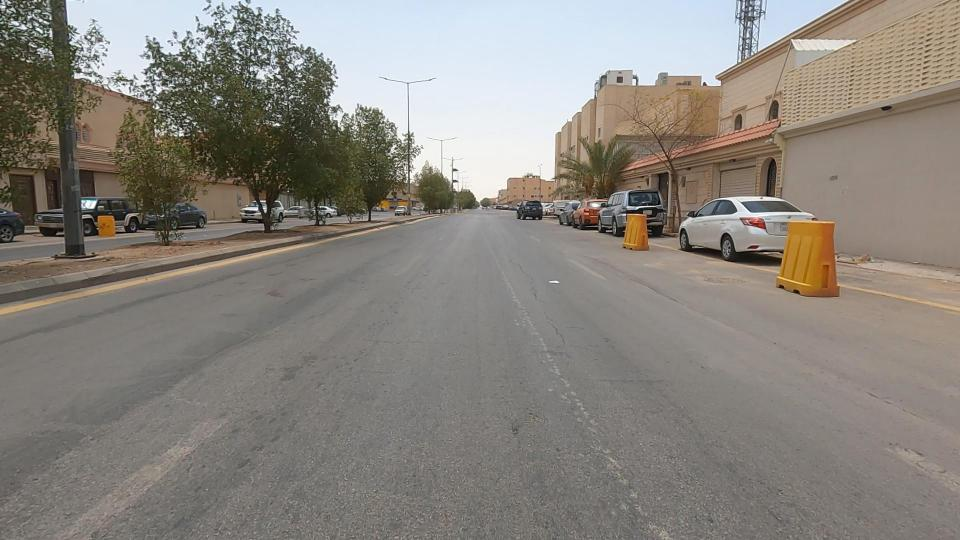GARBAGE: (524, 261, 581, 300)
